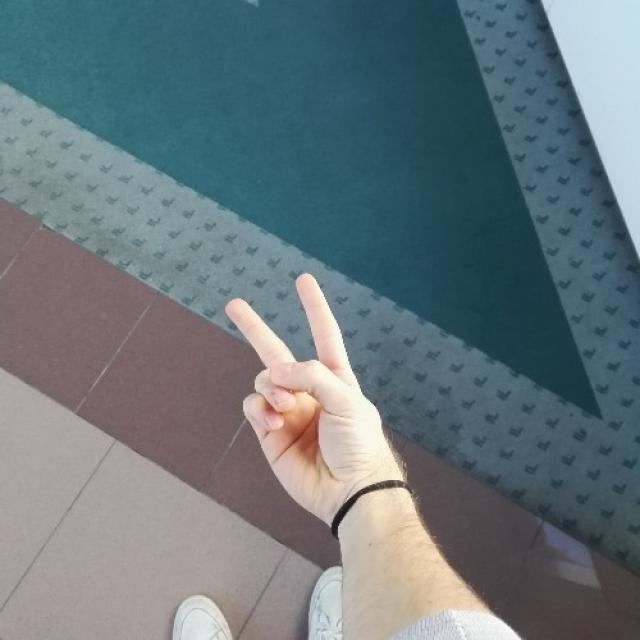scissors: (224, 272, 404, 482)
